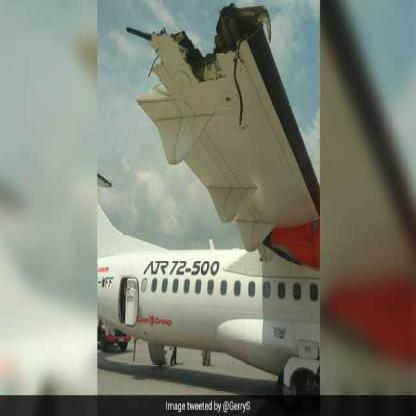CIV_Plane: (97, 8, 320, 390)
